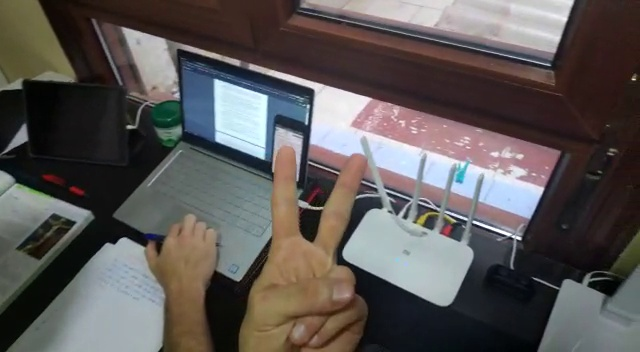Peace: (246, 137, 370, 351)
